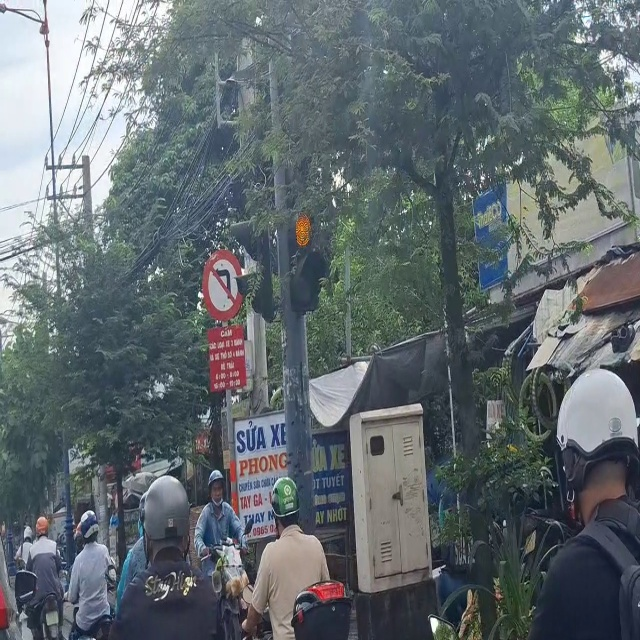cam queo trai: (191, 241, 249, 323)
